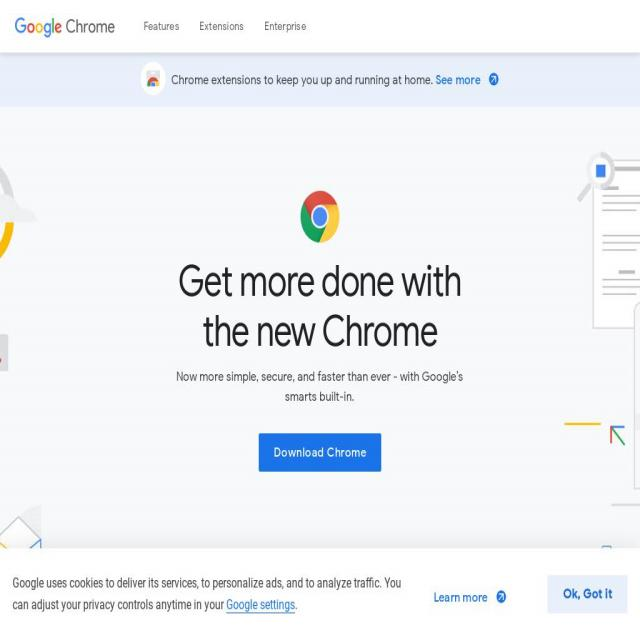download: (254, 427, 388, 475)
navigation-links: (136, 8, 312, 40)
